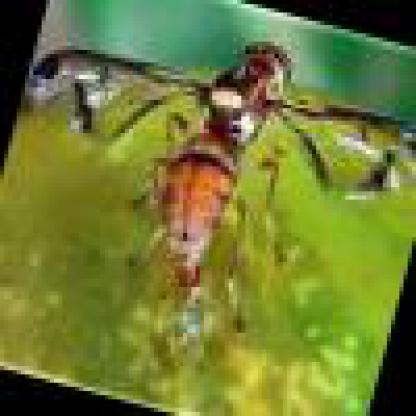fruit fly: (33, 44, 412, 327)
